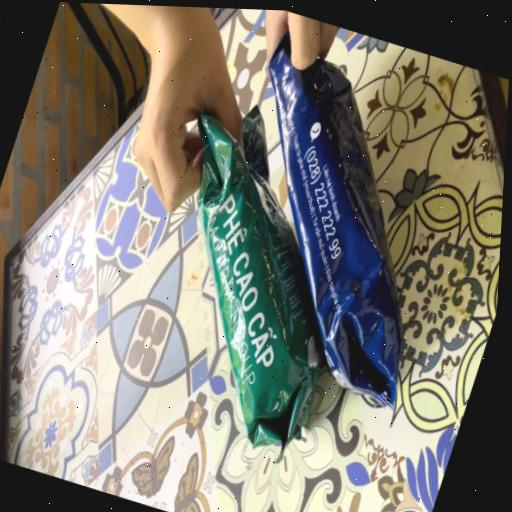cafe_hat: (268, 33, 402, 406)
cafe_xay: (197, 108, 326, 461)
